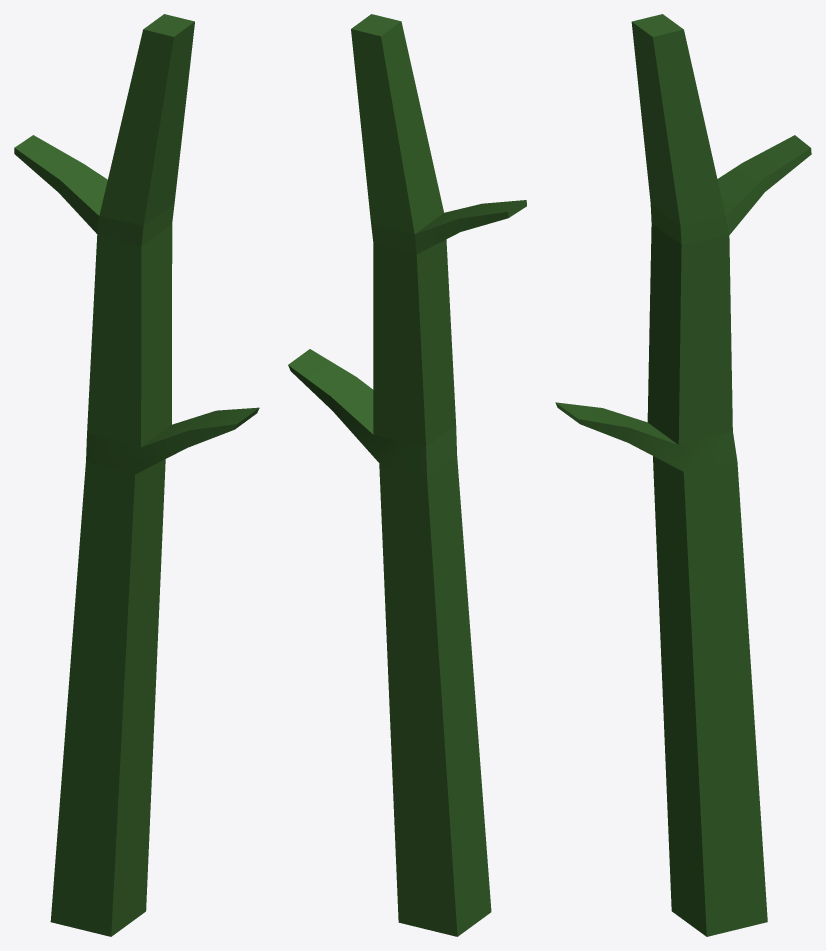
File: bamboo_1.fbx
3 views of the same model, side by side, from view 1: azimuth 30°, elevation 25°; view 2: azimuth 210°, elevation 25°; view 3: azimuth 270°, elevation 25° (orthographic). The views are drawn at different scales.
Parts seen in each view (by area): view 1: bamboo_1; view 2: bamboo_1; view 3: bamboo_1.
Boxes of the visible parts, x1=… form: bamboo_1: x1=14, y1=14, x2=259, y2=936; bamboo_1: x1=288, y1=14, x2=526, y2=936; bamboo_1: x1=555, y1=14, x2=811, y2=936.
Size of the model in its own units: 63.39 by 398 by 101.
